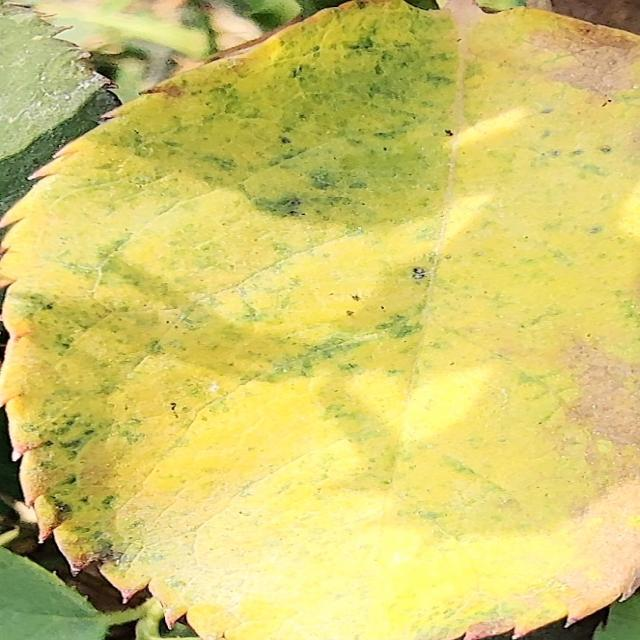Rose: (0, 1, 638, 638)
